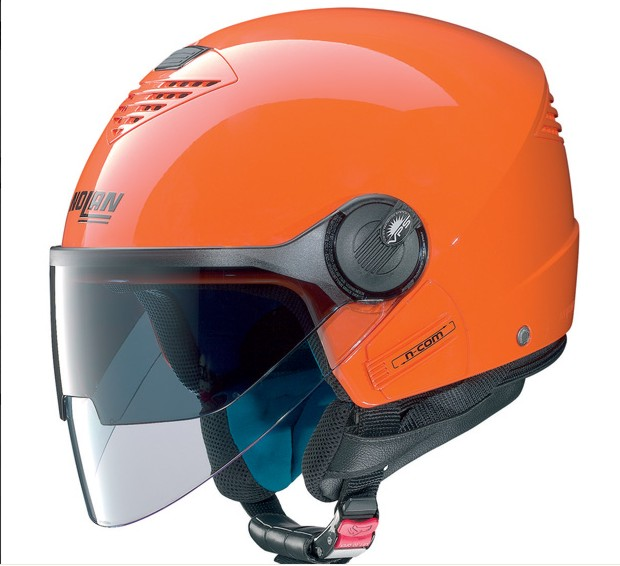helmet: (42, 1, 590, 472)
